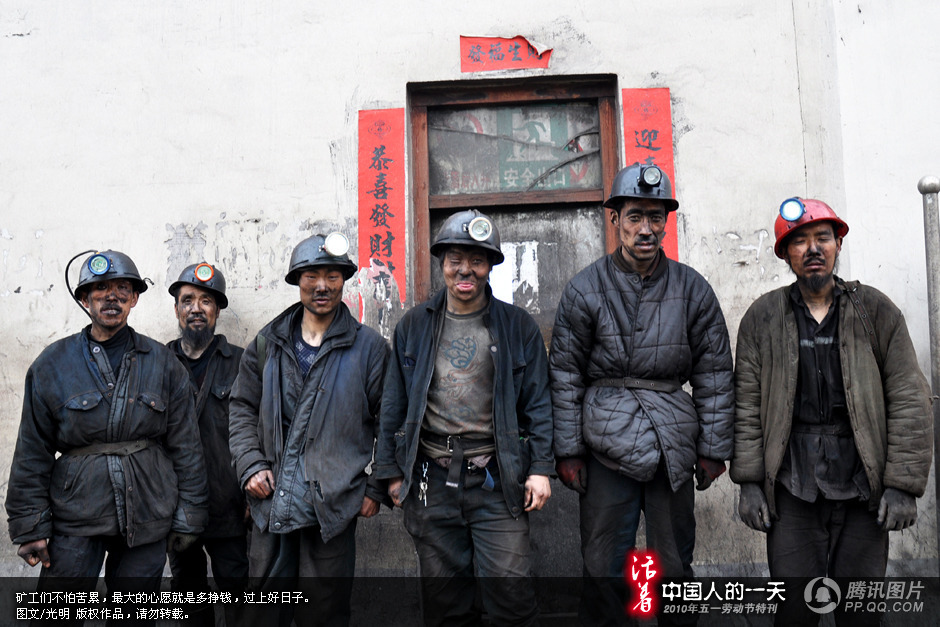helmet: (598, 160, 682, 264), (268, 227, 361, 319), (774, 200, 864, 295), (69, 236, 154, 332), (430, 212, 506, 303), (167, 257, 237, 346)
